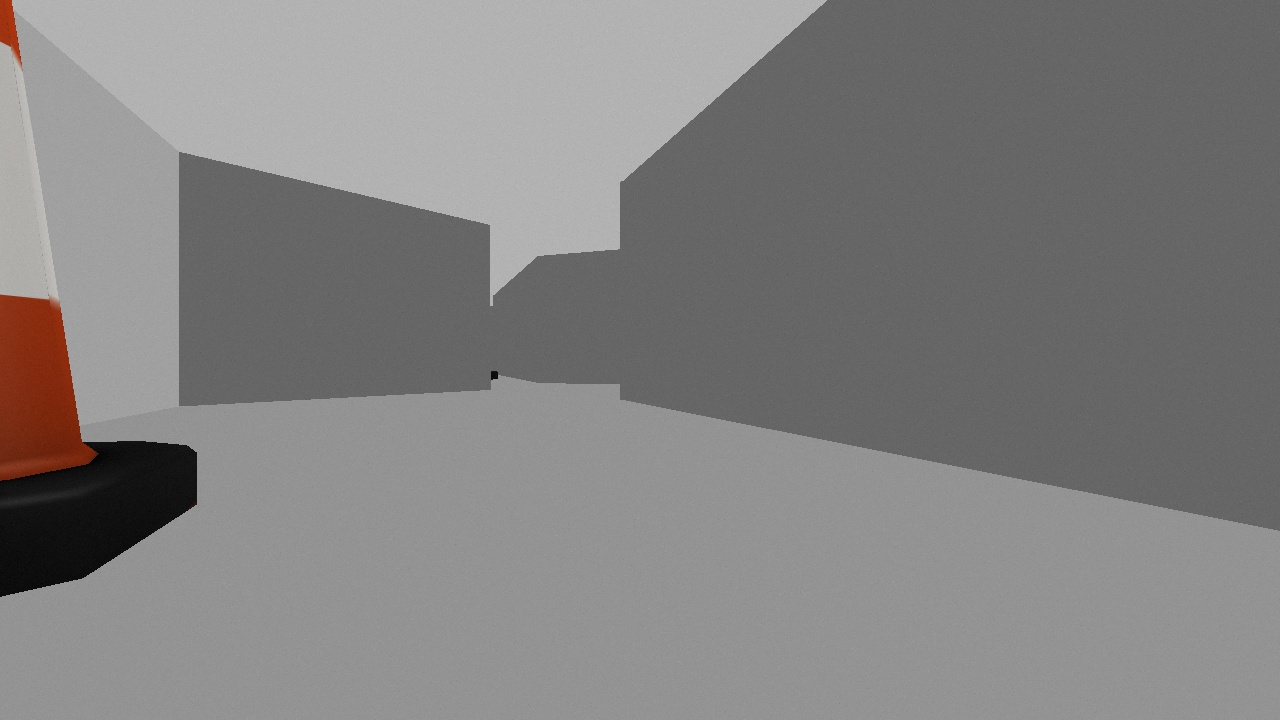barricade: (1, 1, 218, 623)
